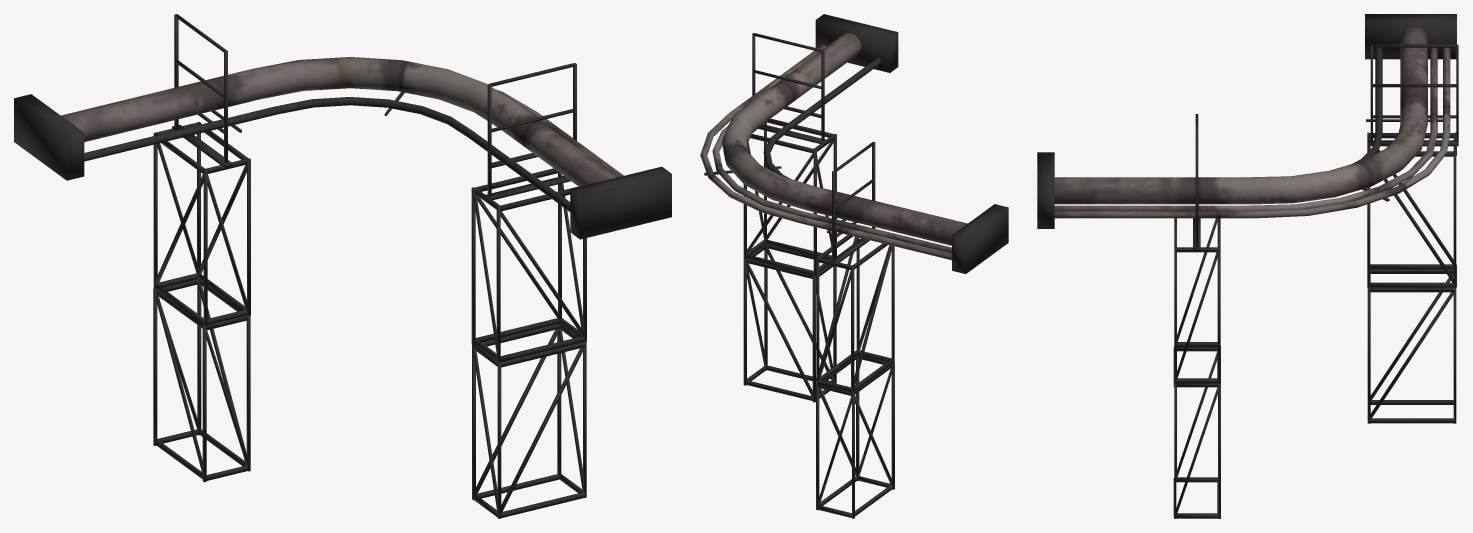
Rendered from Pipe_1.glb.
3 views of the same model, side by side, from view 1: azimuth 30°, elevation 25°; view 2: azimuth 150°, elevation 25°; view 3: azimuth 270°, elevation 25° (orthographic). The views are drawn at different scales.
Parts seen in each view (by area): view 1: Pipe_1; view 2: Pipe_1; view 3: Pipe_1.
Part boxes in pixels (bbox=[...]): Pipe_1: bbox=[14, 14, 671, 518]; Pipe_1: bbox=[700, 14, 1008, 518]; Pipe_1: bbox=[1037, 14, 1458, 518].
Size of the model in its own units: 9.55 by 9.29 by 9.62.
Materials: 1 (1 with a texture image).
